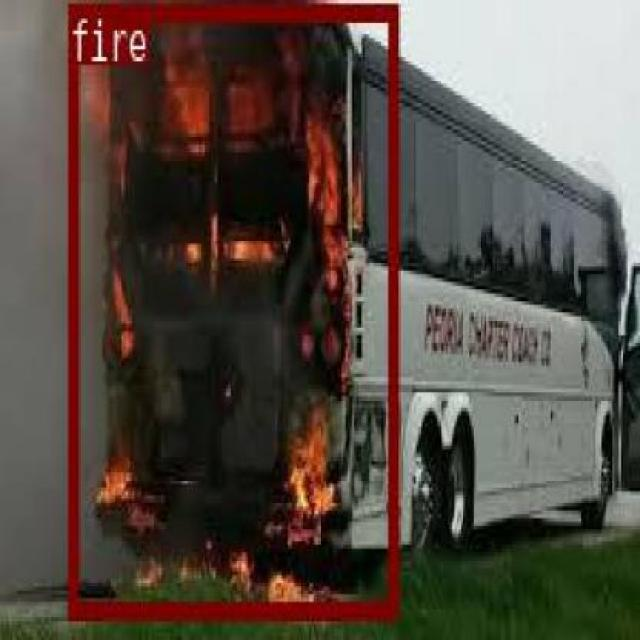Fire: (66, 1, 397, 614)
